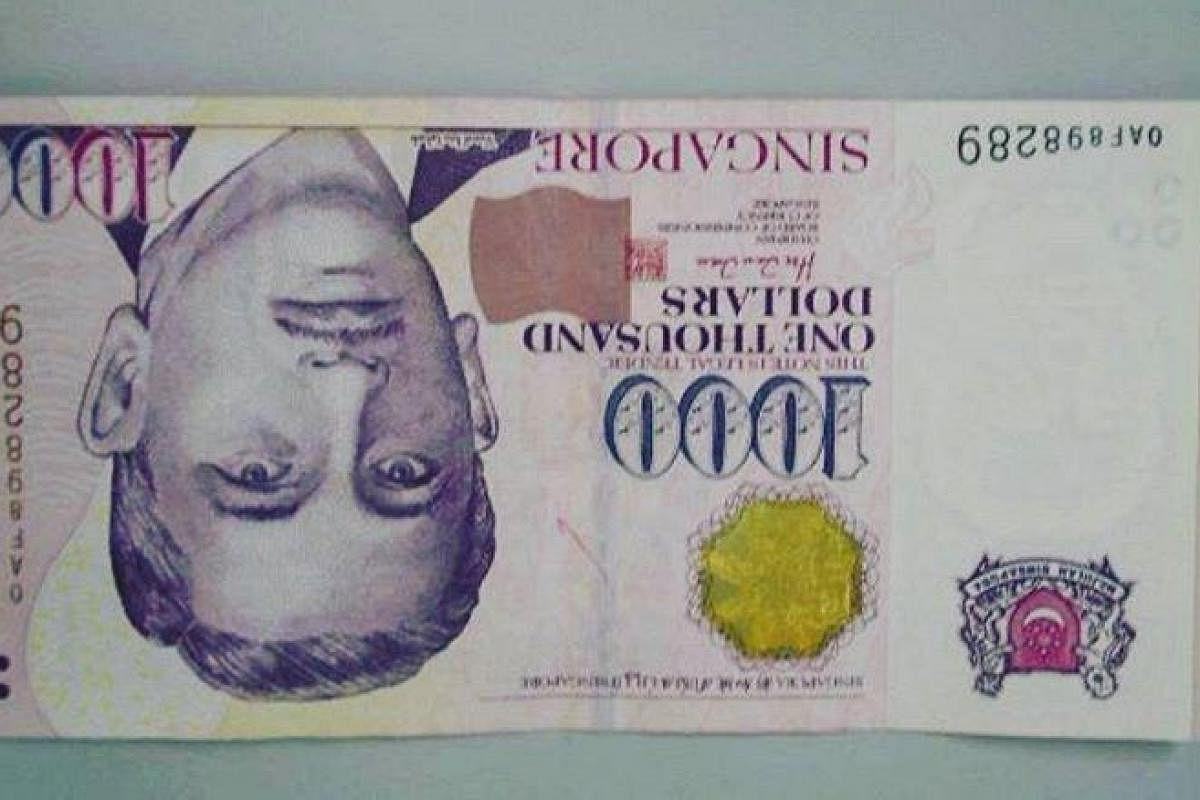1000SingaporeDollar: (0, 105, 1200, 723)
